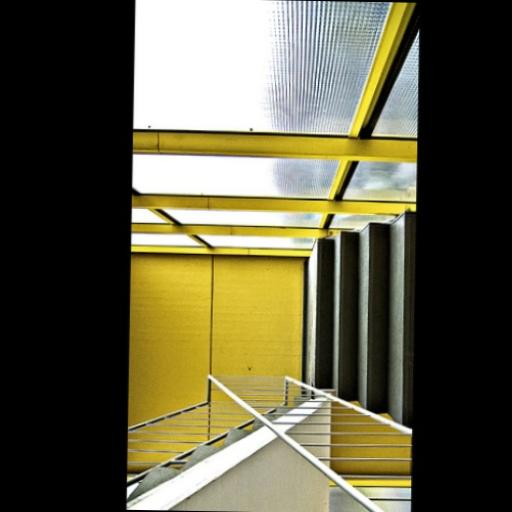stairs: (304, 211, 416, 426)
